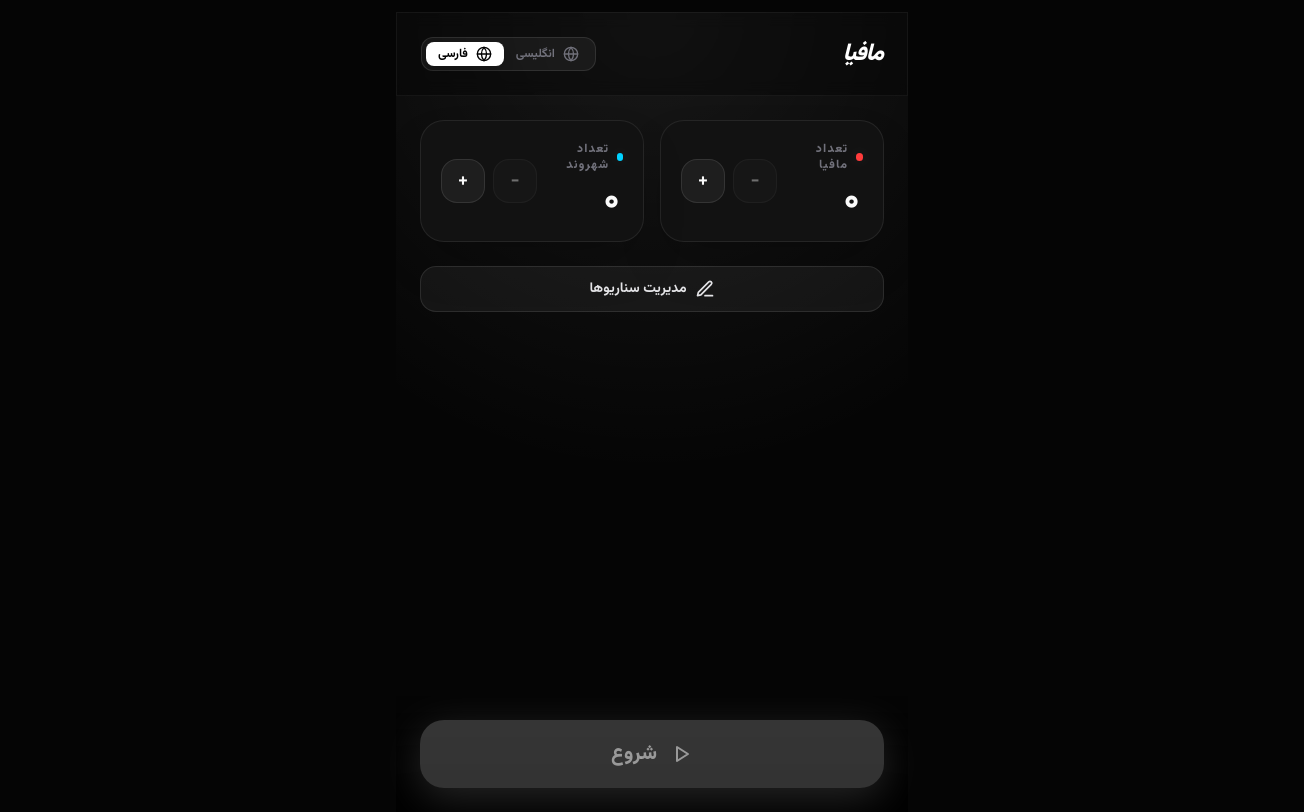
Test: Scenario Management › loads a scenario and populates counts and roles
Click the button "مدیریت سناریوها" at (652, 289), box [420,266,884,312]
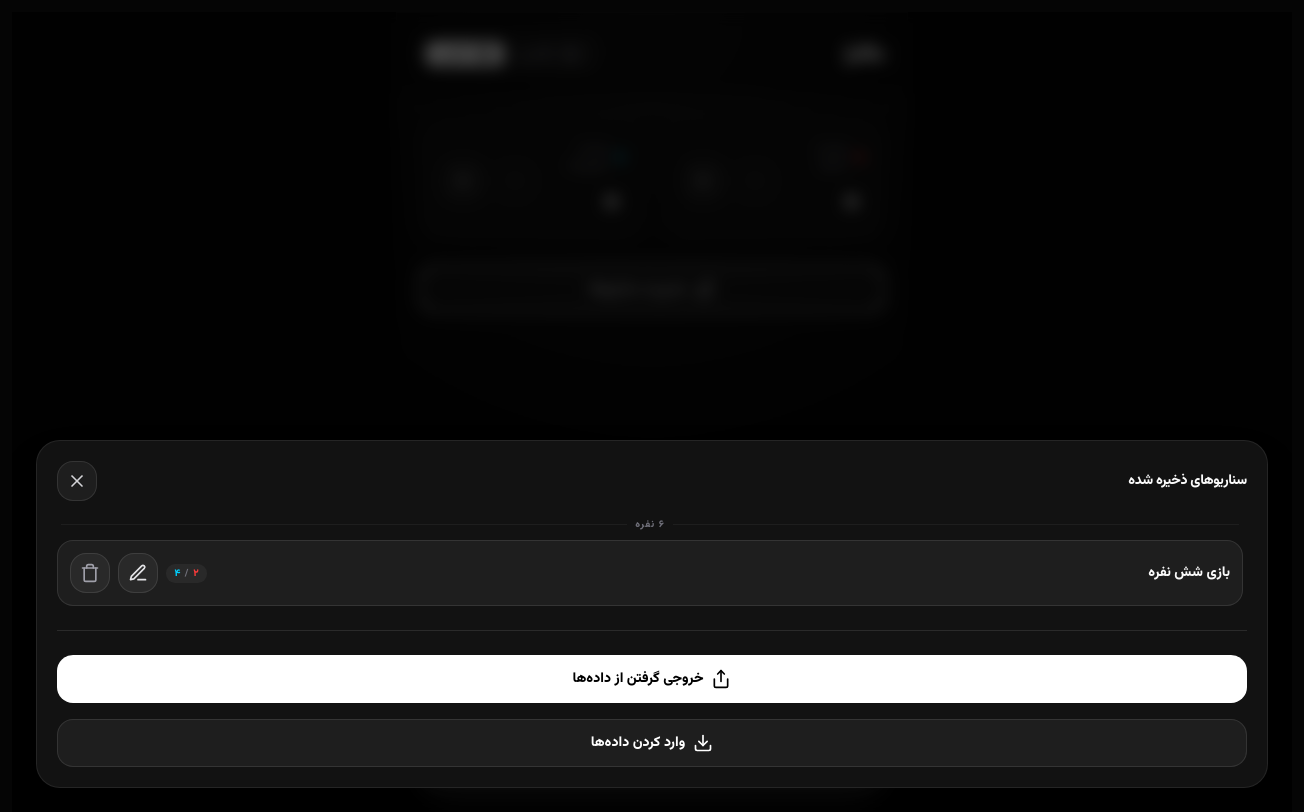
Expected: the text "بازی شش نفره" is shown
Click the text "بازی شش نفره" at (1189, 573), box [1148,563,1230,583]
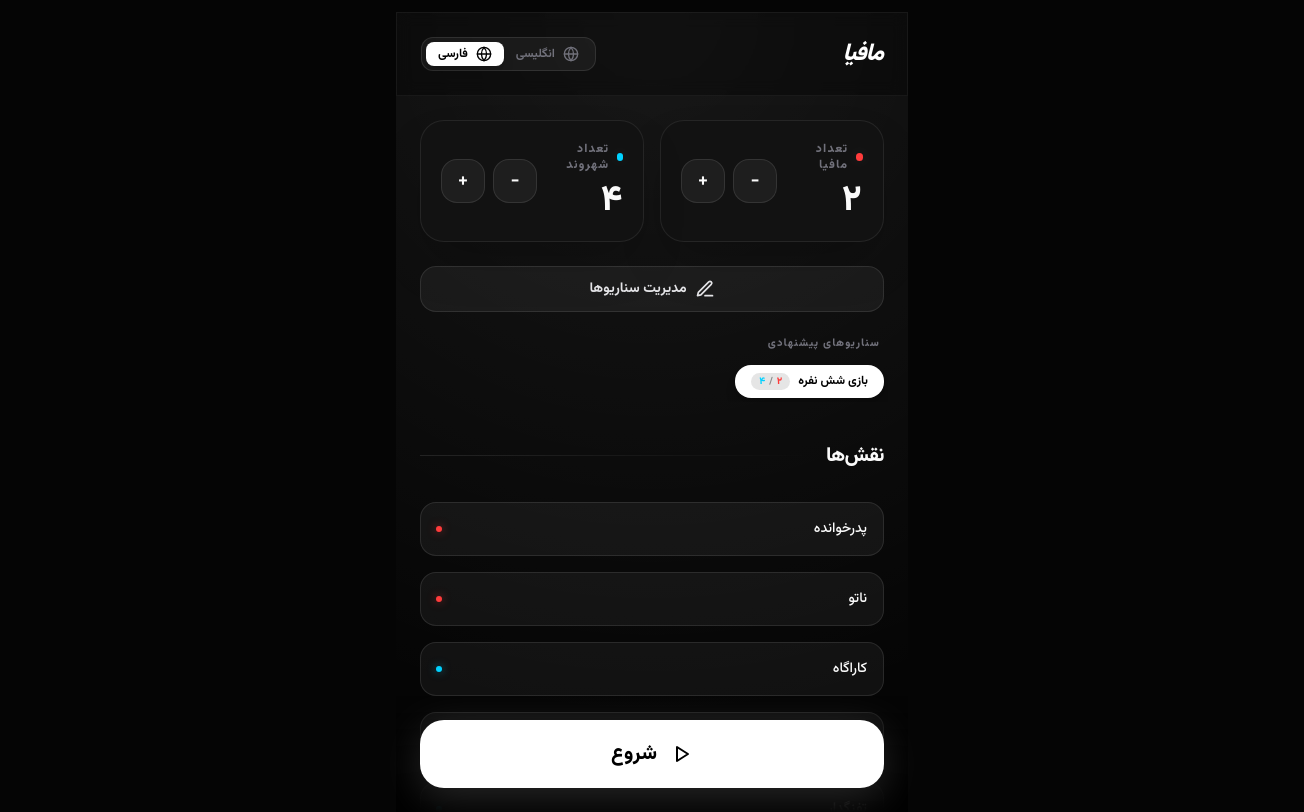
Expected: the number of fields with placeholder "نقش مافیا ۱" is 2, [420,502,884,556]; [420,572,884,626]
Expected: the 1st field with placeholder "نقش مافیا ۱" holds "پدرخوانده", [420,502,884,556]
Expected: the 2nd field with placeholder "نقش مافیا ۲" holds "ناتو", [420,572,884,626]
